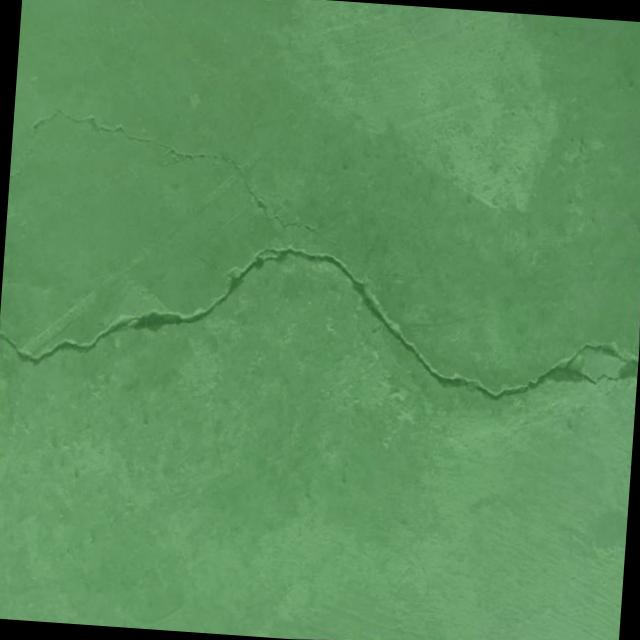crack: (0, 216, 640, 429), (5, 96, 346, 258)
